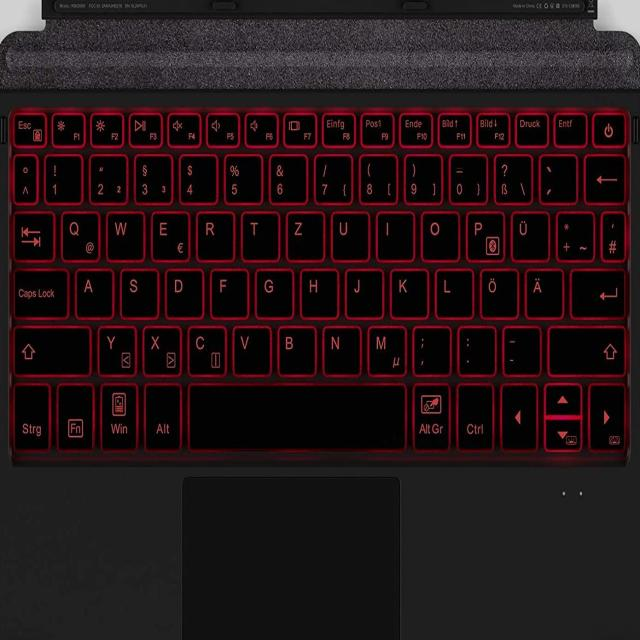0: (446, 150, 486, 203)
1: (42, 151, 80, 202)
2: (86, 151, 126, 202)
3: (131, 151, 171, 202)
4: (178, 151, 216, 202)
5: (221, 150, 260, 202)
6: (266, 151, 306, 202)
7: (312, 151, 351, 203)
8: (356, 150, 395, 203)
9: (401, 151, 441, 203)
a: (73, 265, 112, 316)
accent: (537, 151, 575, 202)
ae: (522, 265, 562, 317)
alt-left: (142, 379, 181, 451)
altgr-right: (410, 378, 449, 451)
b: (274, 323, 315, 373)
c: (185, 323, 226, 375)
caret: (12, 151, 37, 202)
comma: (410, 322, 449, 373)
d: (163, 265, 202, 316)
del: (583, 151, 625, 202)
e: (148, 209, 188, 260)
enter: (569, 265, 625, 316)
f: (208, 264, 247, 315)
g: (252, 265, 291, 316)
h: (297, 265, 337, 316)
hash: (600, 208, 626, 261)
i: (374, 208, 413, 258)
j: (343, 265, 381, 316)
k: (388, 265, 426, 316)
keyboard: (0, 84, 640, 466)
l: (433, 265, 471, 316)
m: (364, 322, 405, 374)
minus: (499, 323, 539, 373)
n: (320, 322, 359, 373)
o: (418, 208, 457, 259)
oe: (477, 265, 516, 316)
p: (464, 208, 503, 260)
plus: (554, 208, 593, 259)
point: (455, 322, 494, 372)
q: (58, 209, 99, 260)
r: (194, 208, 233, 259)
s: (117, 265, 157, 316)
shift-left: (10, 321, 89, 374)
shift-lock: (11, 265, 67, 317)
shift-right: (547, 322, 625, 374)
space: (186, 379, 407, 451)
ss: (491, 150, 531, 203)
strg-left: (10, 378, 50, 452)
strg-right: (454, 379, 494, 451)
t: (239, 208, 277, 258)
tab: (11, 207, 53, 259)
u: (328, 208, 367, 260)
ue: (508, 208, 547, 260)
v: (230, 323, 270, 373)
w: (103, 207, 142, 258)
x: (140, 323, 180, 374)
y: (95, 323, 135, 373)
z: (283, 208, 322, 259)
